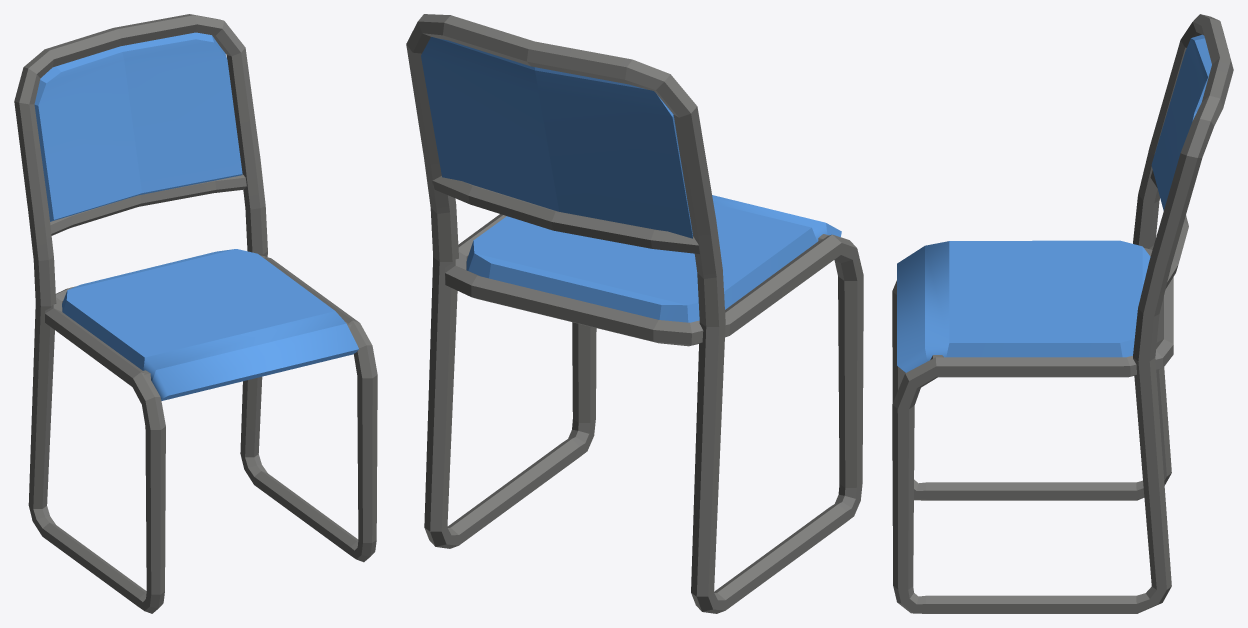
Rendered from SM_Prop_StudentChair.fbx.
3 renders of one model, left to right at view 1: azimuth 30°, elevation 25°; view 2: azimuth 150°, elevation 25°; view 3: azimuth 270°, elevation 25°, orthographic. The views are drawn at different scales.
Parts seen in each view (by area): view 1: SM_Prop_StudentChair; view 2: SM_Prop_StudentChair; view 3: SM_Prop_StudentChair.
Boxes of the visible parts, x1,y1,x2,y2 form: SM_Prop_StudentChair: (14,14,377,613); SM_Prop_StudentChair: (406,14,863,613); SM_Prop_StudentChair: (892,14,1233,613).
Size of the model in its own units: 53.44 by 103 by 63.46.
1 material, 1 textured.
